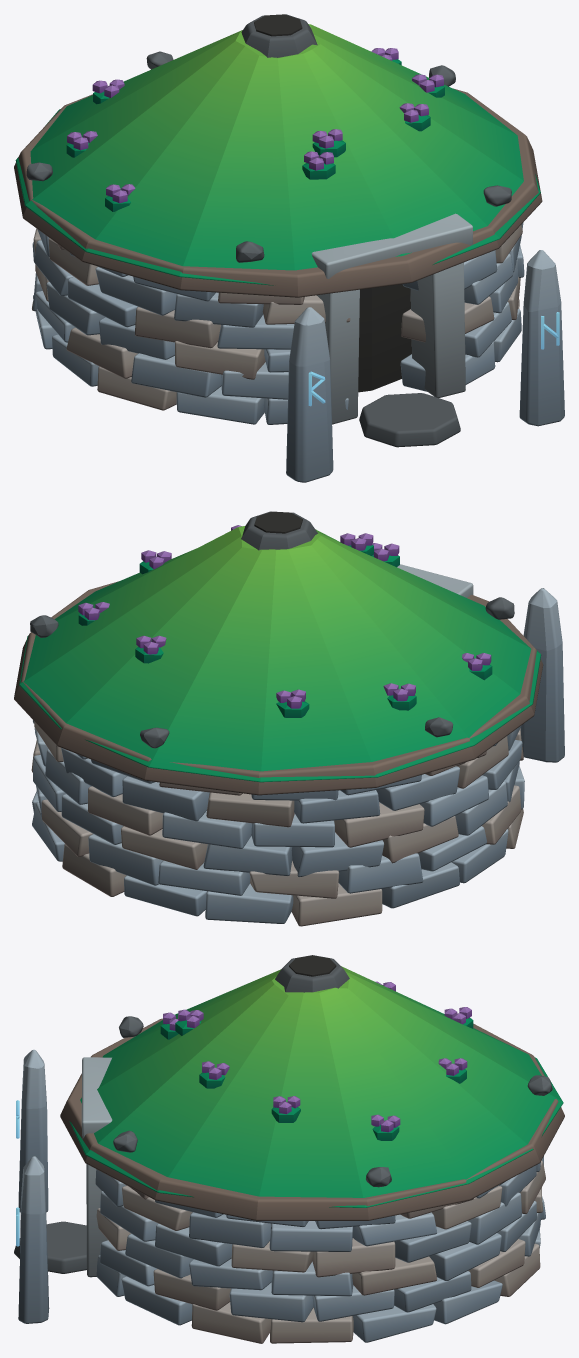
File: singer_hut.glb
3 views of the same model, one above another, from view 1: azimuth 30°, elevation 25°; view 2: azimuth 150°, elevation 25°; view 3: azimuth 270°, elevation 25° (orthographic). The views are drawn at different scales.
Parts seen in each view (by area): view 1: singer_hut; view 2: singer_hut; view 3: singer_hut.
Boxes of the visible parts, box(x1,y1,x2,y2) form: singer_hut: box(14, 14, 564, 482); singer_hut: box(14, 511, 564, 926); singer_hut: box(14, 955, 564, 1343).
Bounding box in the file's own units: 5.83 × 3.89 × 6.52.
2 materials, 2 textured.
